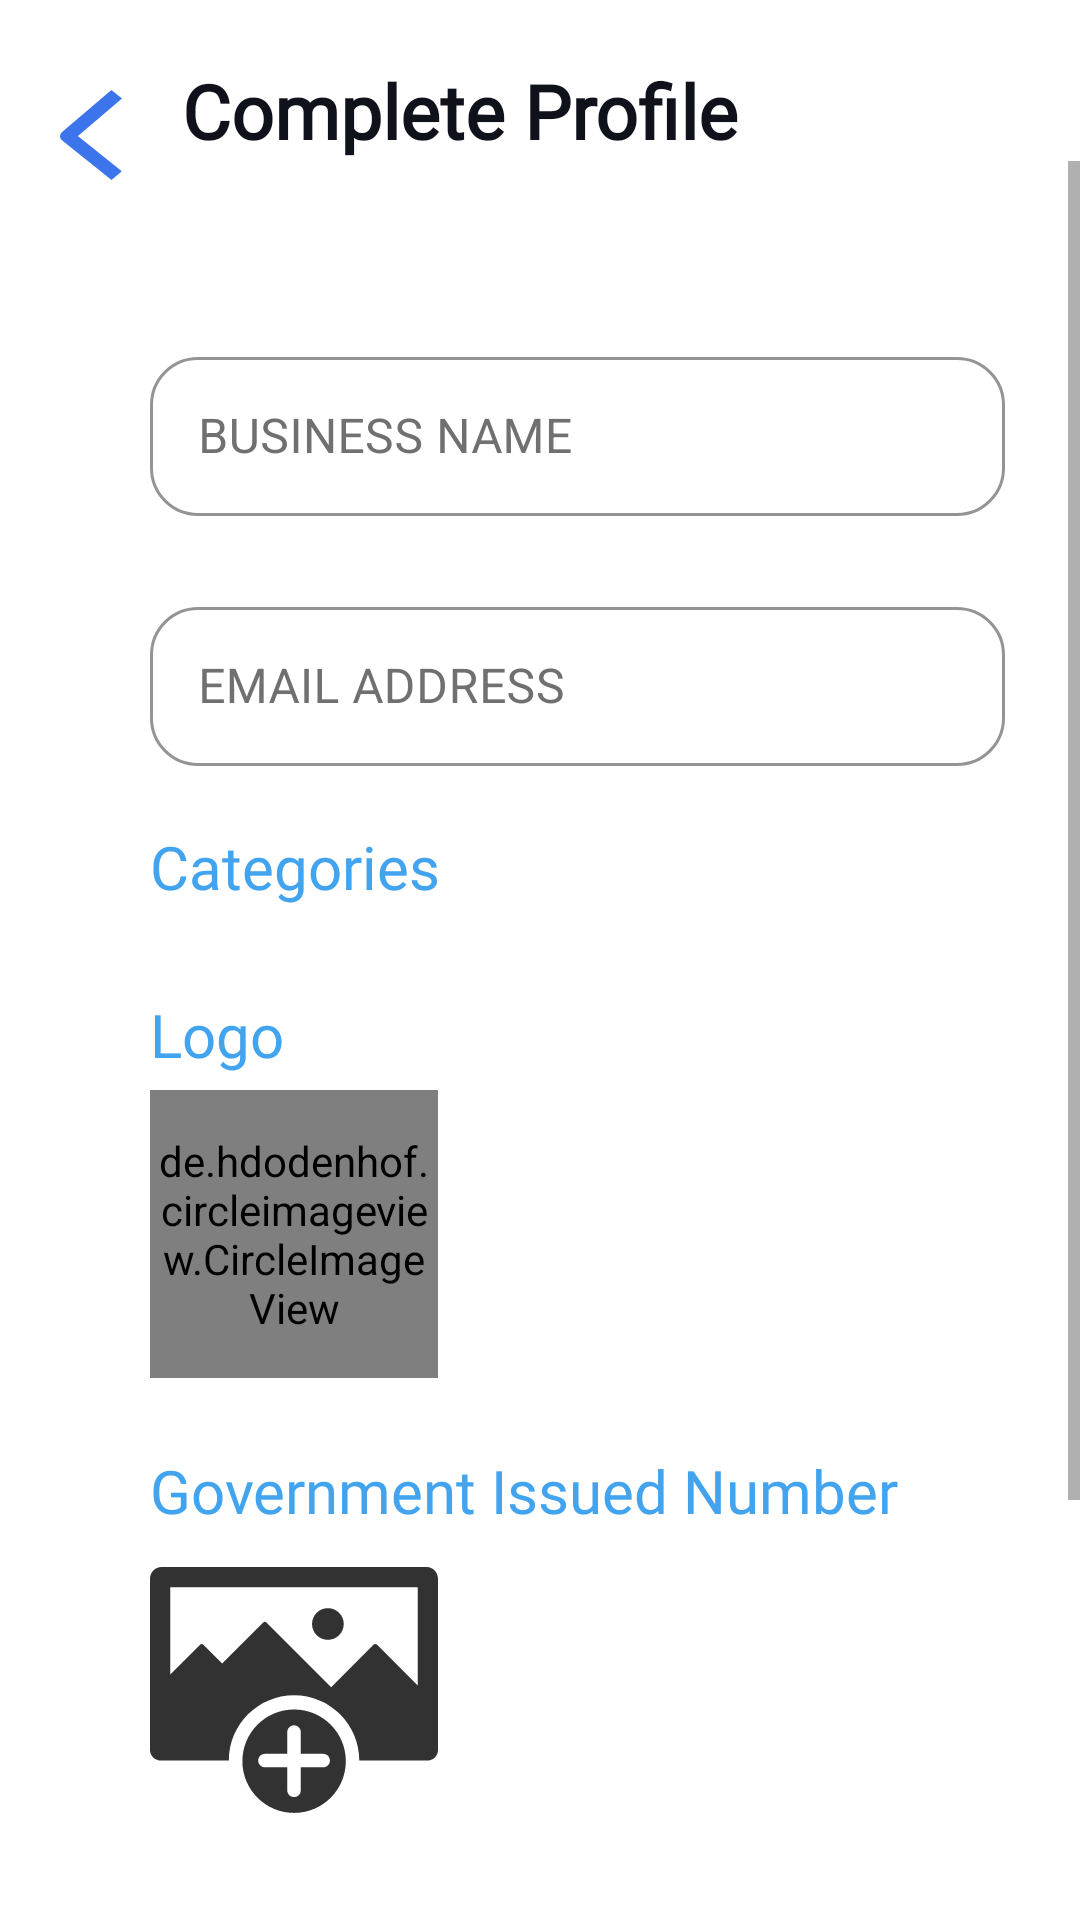

Icons on this 1080*1920 Android screen, each with the point to tap as (x,y):
back: (91,135)
